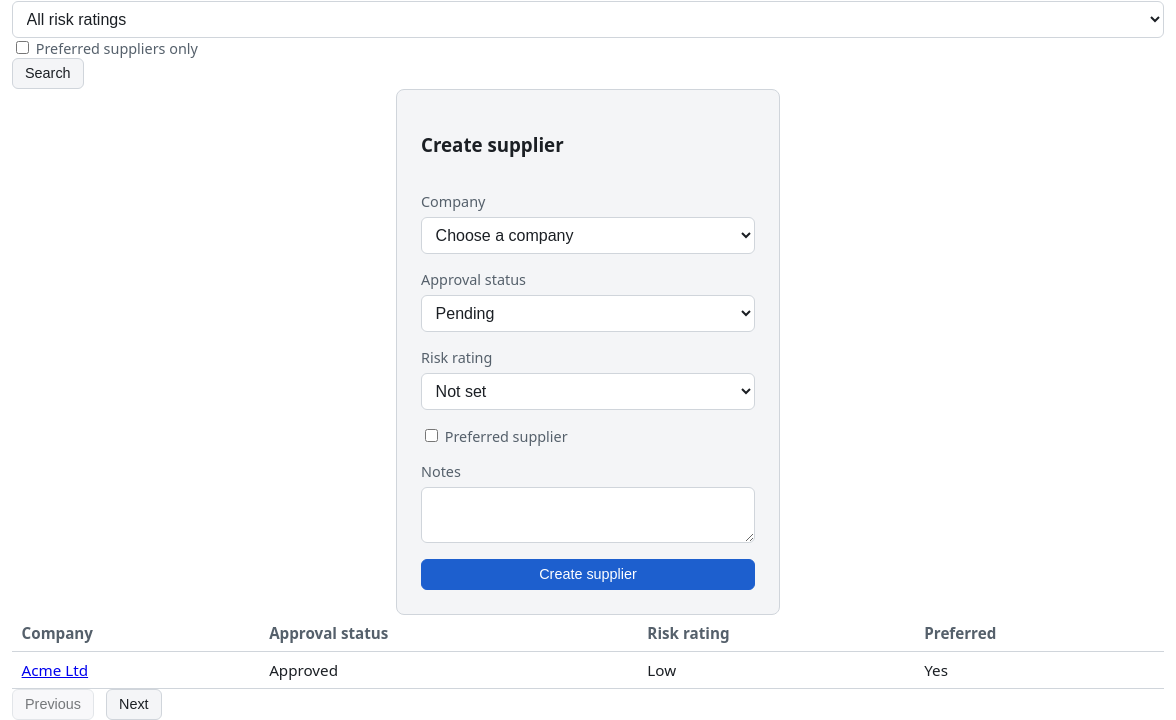
Test: SuppliersPage › paginates using the total count
This screenshot has width=1176, height=720.
(page scrolled)
Check: the link "Acme Ltd" is shown, box [22,660,88,680]
Check: the button "Previous" is disabled, box [12,689,94,719]
What coordinates should you click on to do the following:
click the button "Next"
I would click on:
 (134, 704)
Its box is [106,689,162,719].
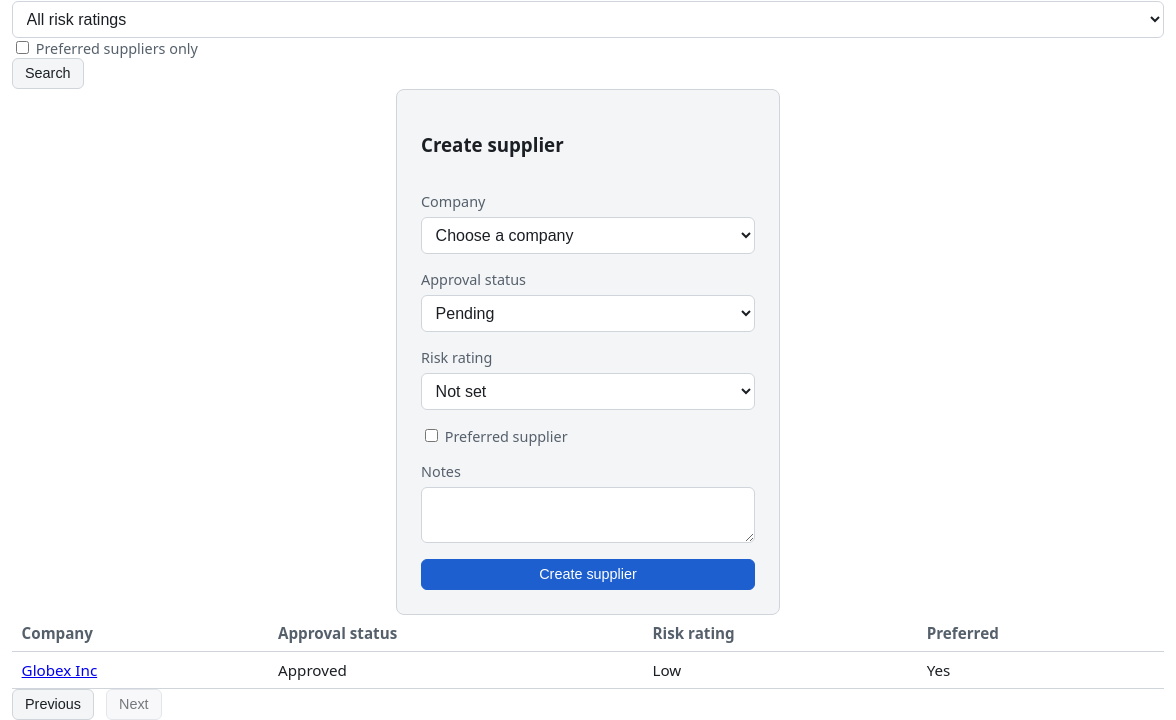
Check: the link "Globex Inc" is shown, box [22,660,97,680]
